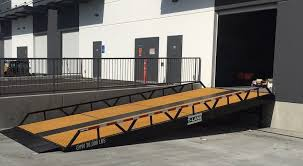Yard Ramp: (1, 82, 275, 155)
